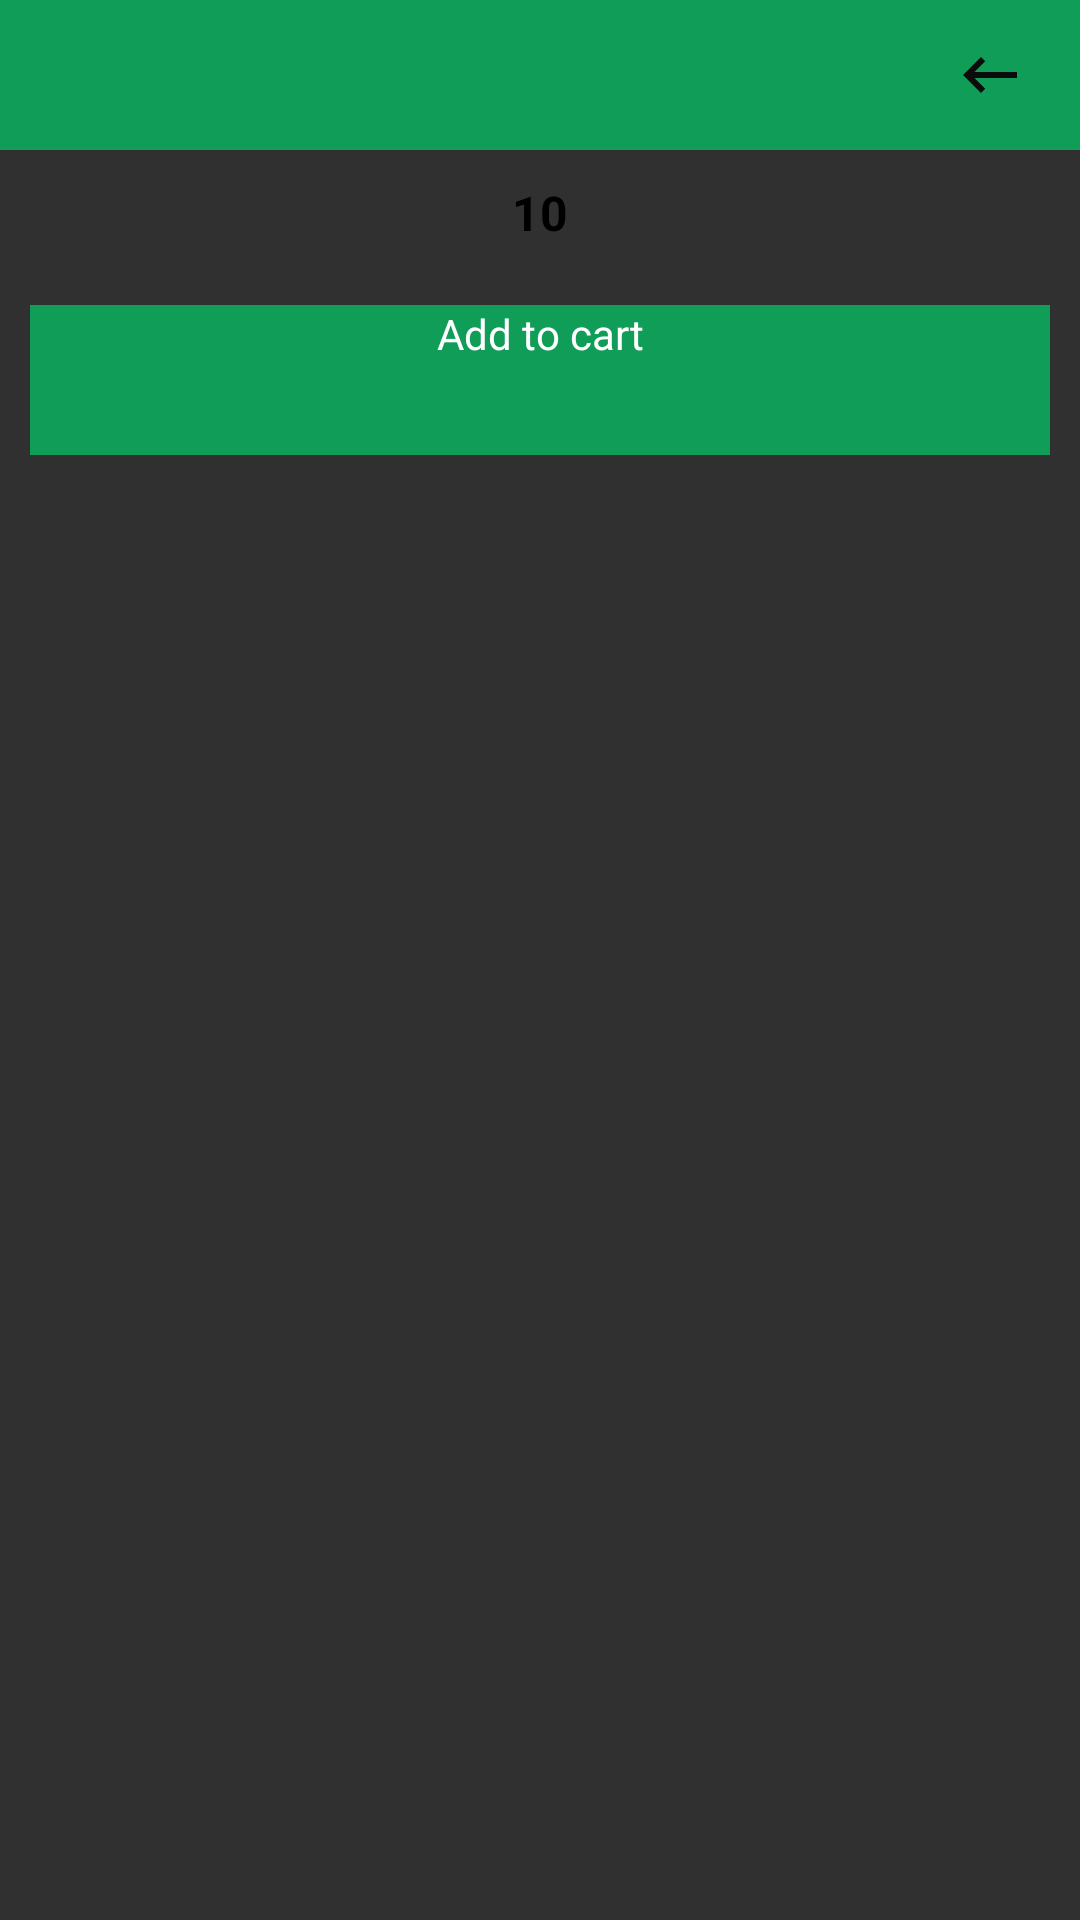

Icons on this 1080*1920 Android screen, each with the point to tap as [x,y]:
keyboard backspace: [990,75]
